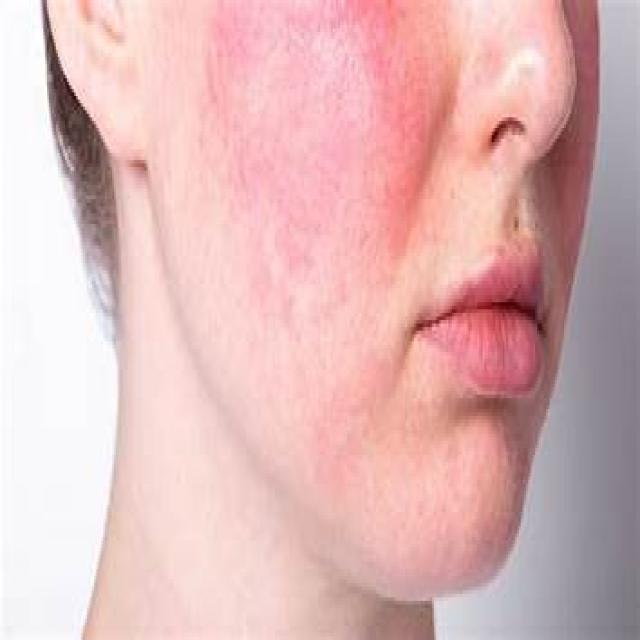Rosacea: (215, 7, 389, 251)
